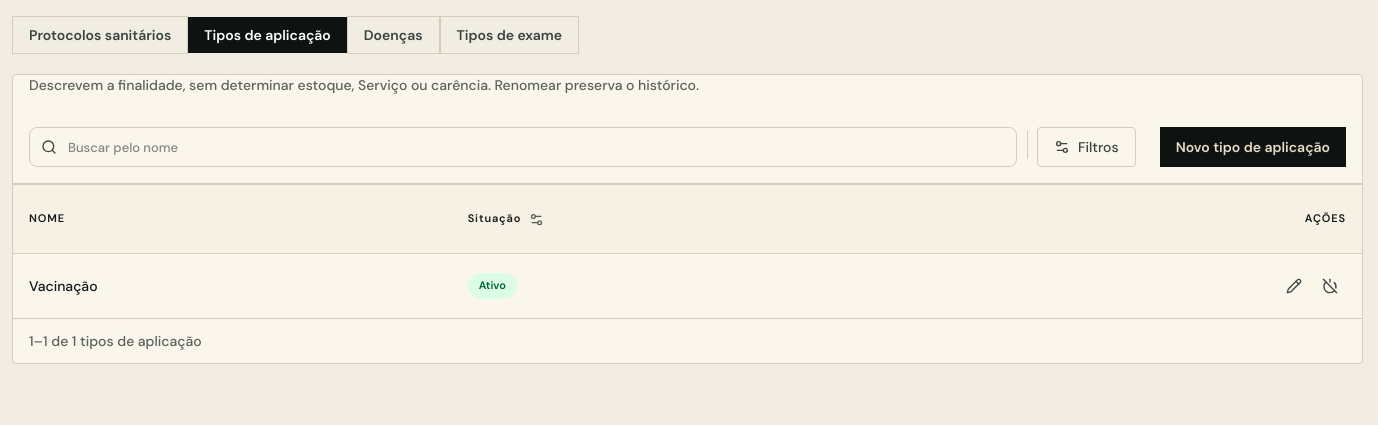
it: Cadastros sanitários › atualiza situação localmente e confirma sem recarregar
Click the button named "Inativar Vacinação" at point(1330, 286), box [1314, 270, 1346, 302]
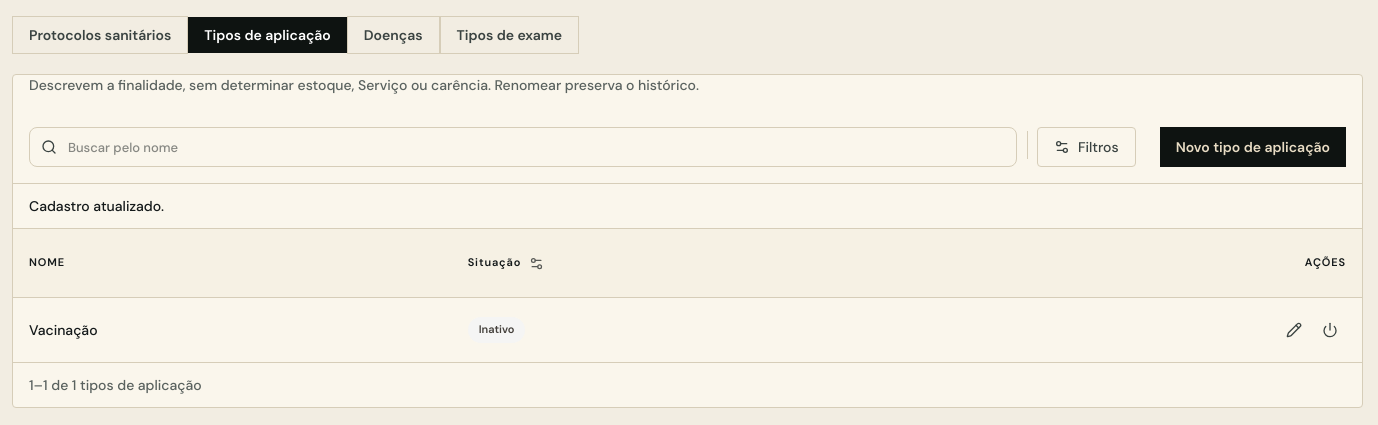
Result: the text "Cadastro atualizado." is shown at [29, 197, 164, 215]
